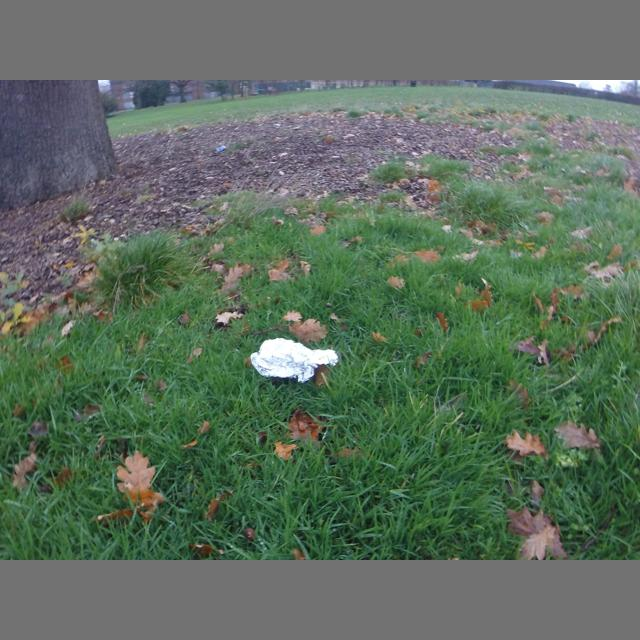litter: (250, 337, 340, 383)
